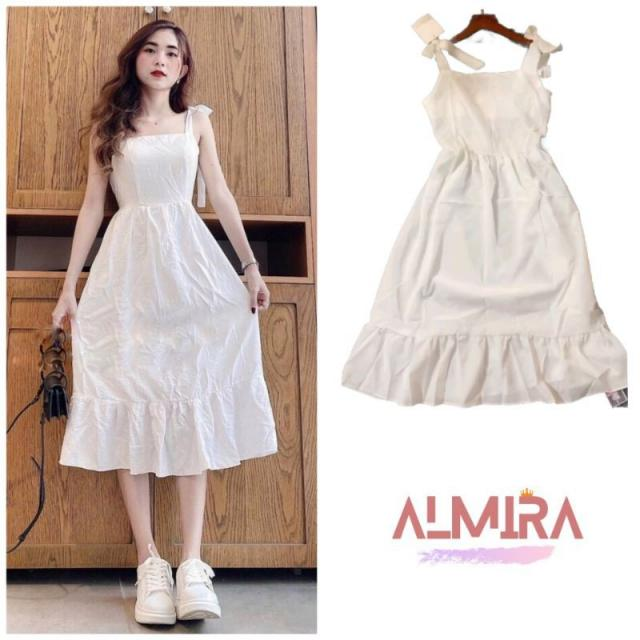clothes: (358, 15, 628, 428), (60, 104, 284, 475)
